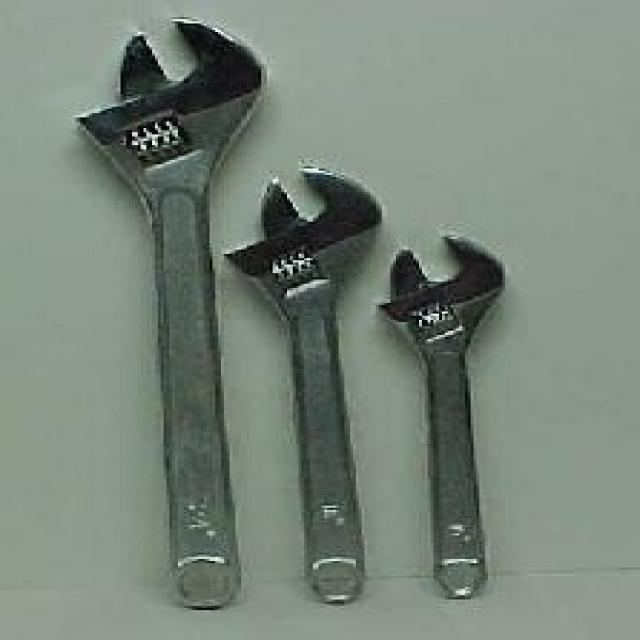wrench: (72, 18, 272, 614), (226, 162, 387, 608), (371, 227, 516, 605)
